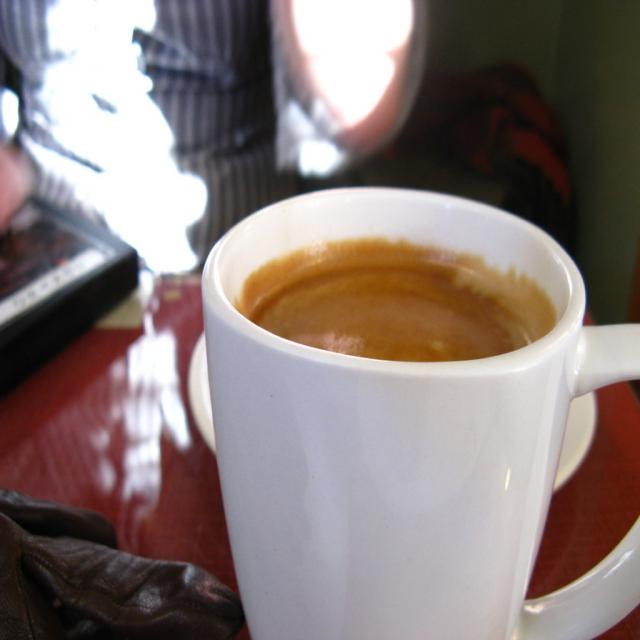Coffee: (194, 181, 640, 640), (252, 264, 534, 364)
